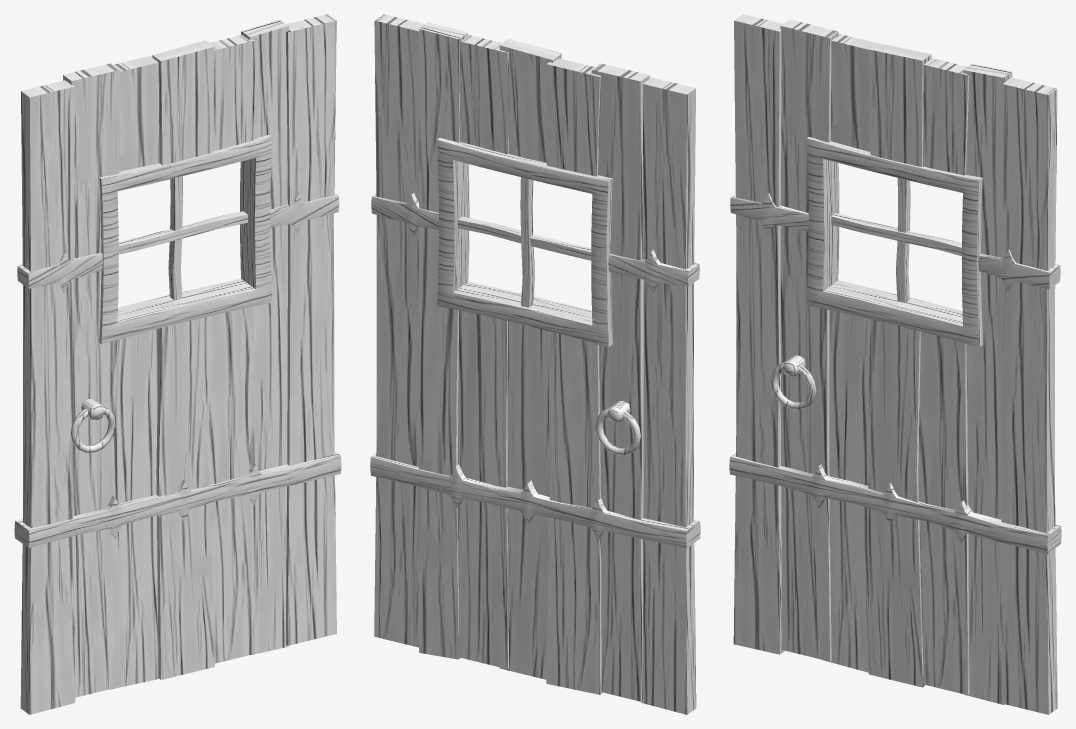
The model's file is ARC0110026.fbx.
3 renders of one model, left to right at view 1: azimuth 30°, elevation 25°; view 2: azimuth 150°, elevation 25°; view 3: azimuth 330°, elevation 25°, orthographic.
Visible parts, largest first — view 1: smARC0110026; view 2: smARC0110026; view 3: smARC0110026.
Boxes of the visible parts, box(x1,y1,x2,y2) form: smARC0110026: box(14, 14, 341, 714); smARC0110026: box(370, 14, 700, 714); smARC0110026: box(729, 14, 1061, 714).
Bounding box in the file's own units: 135 × 256 × 21.27.
Materials: 1 (1 with a texture image).
